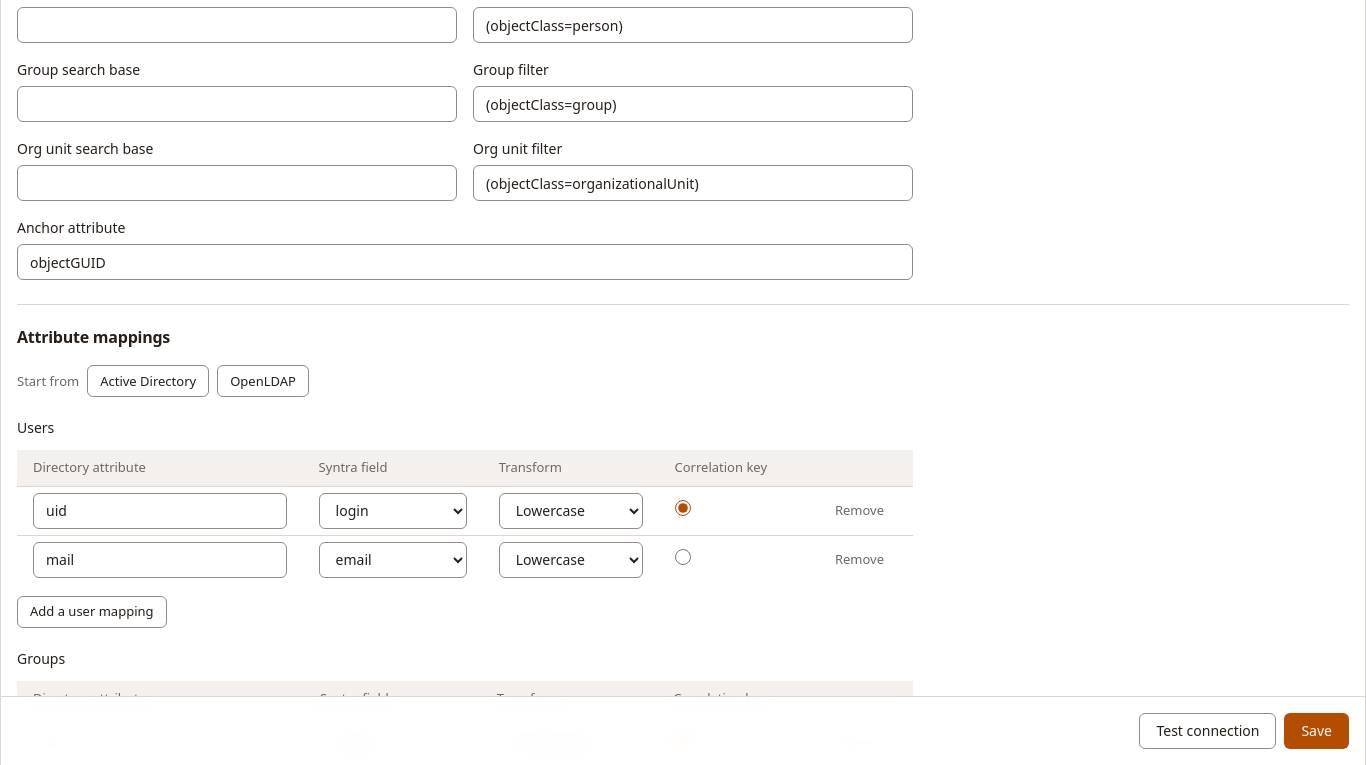
Test: creating a source › reseeds both the mappings and the filters for Active Directory
This screenshot has width=1366, height=765.
(page scrolled)
What coordinates should you click on to do the following:
click the button "Active Directory"
I would click on:
 (148, 381)
Its box is [87,365,209,397].
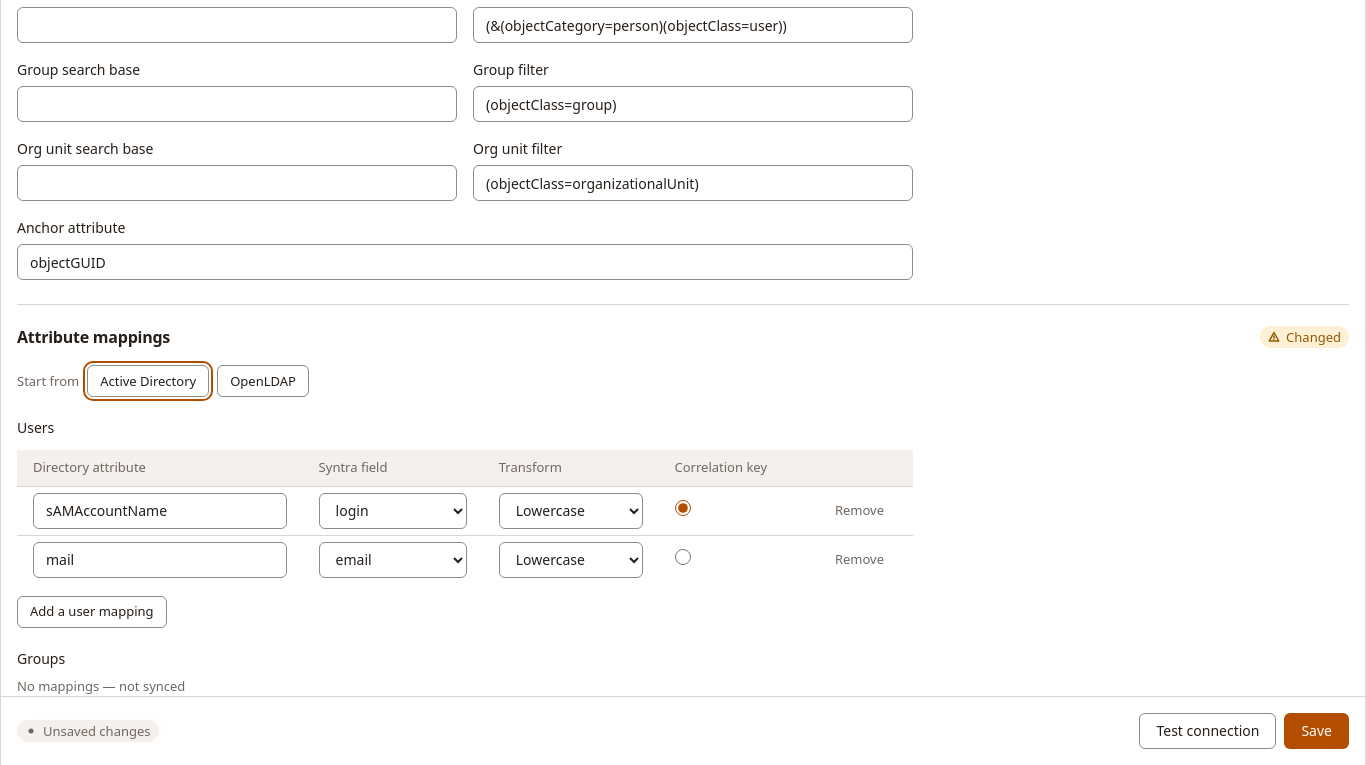
Expected: the field labelled "Anchor attribute" holds "objectGUID", [17,244,913,280]
Result: the 1st field showing "sAMAccountName" is shown at [33,493,287,529]
Result: the field labelled "User filter" holds "(&(objectCategory=person)(objectClass=user))" at [473,7,913,43]
